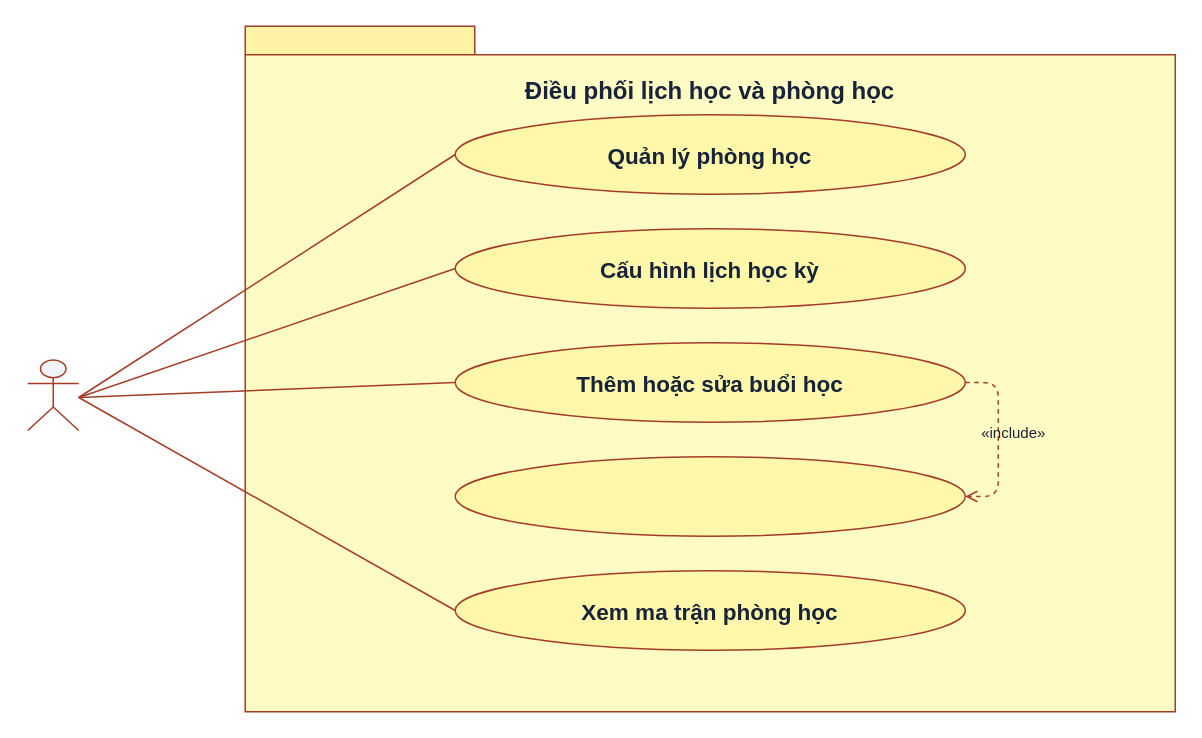
The diagram is 1202 pixels wide and 738 high, and some of its shapes have lost their labels. Here are the shapes that lost their labels. From the top down, the centre of each, then its label:
the point at 52,394: Quản trị viên
the point at 709,495: Kiểm tra xung đột lịch
